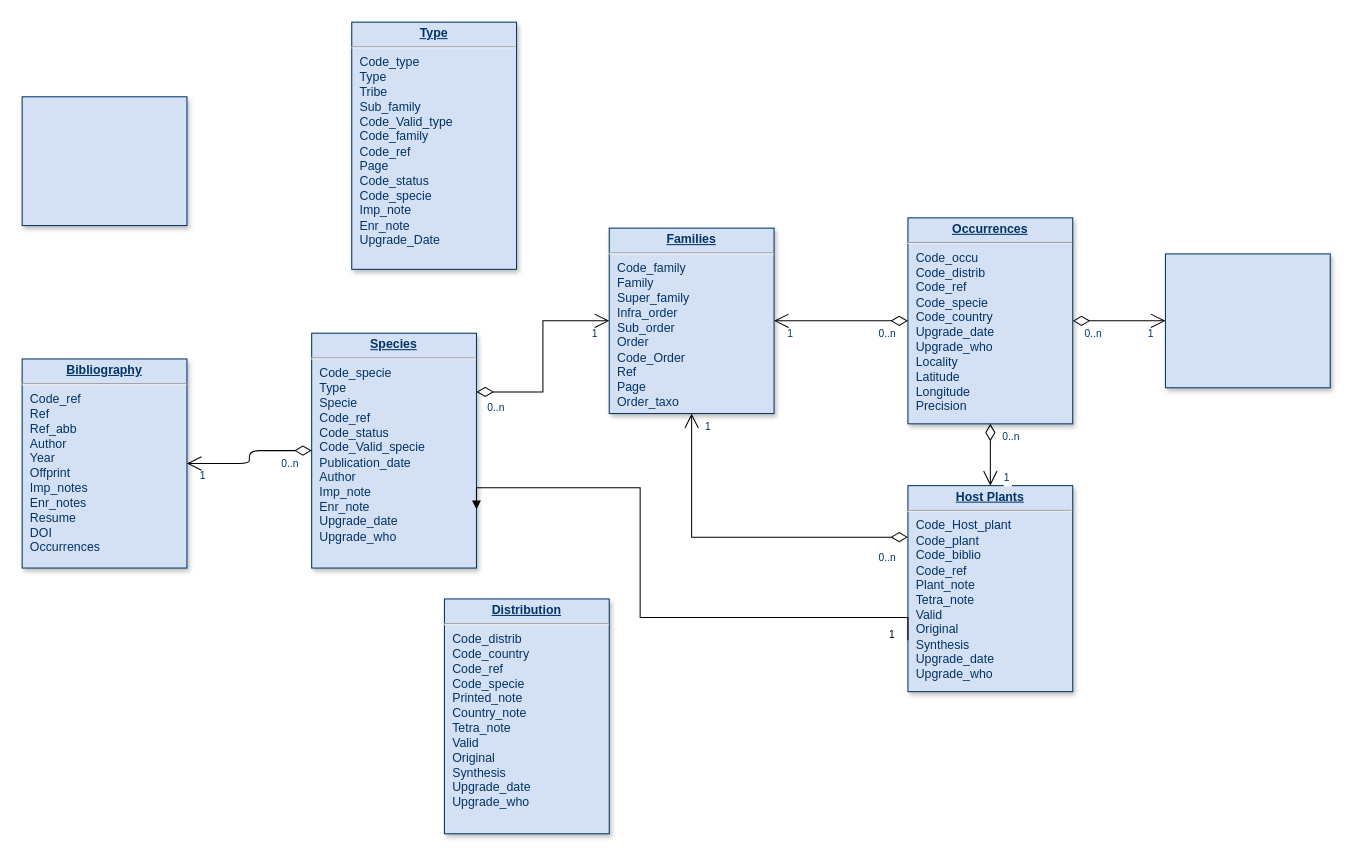
Some shapes in this 1354 by 859 pixel diagram are drawn without their labels. The shapes that lost their labels are listed below. From the top down, each one's centre as x and y in pixels, then its label:
At point 105,162: "Status Code_status Status Sp2000NameStatus GSDNameStatus".
At point 1248,322: "TimeCategory IdTimeCategory Name Description CreatedAt UpdatedAt Enabled".
